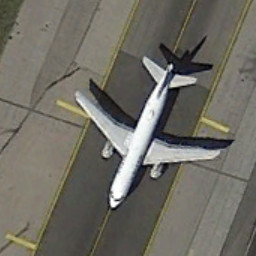Airplane: (69, 48, 232, 226)
